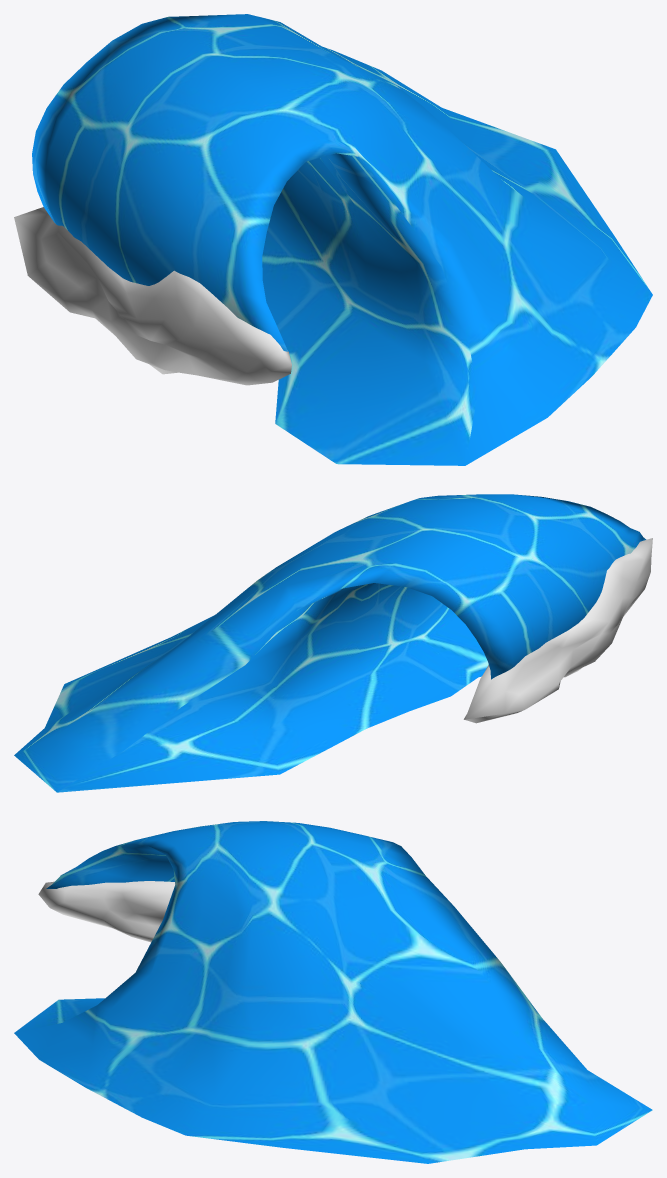
Rendered from onda.fbx.
3 views of the same model, one above another, from view 1: azimuth 30°, elevation 25°; view 2: azimuth 150°, elevation 25°; view 3: azimuth 270°, elevation 25° (orthographic). The views are drawn at different scales.
Visible parts, largest first — view 1: Cylinder.001; view 2: Cylinder.001; view 3: Cylinder.001.
Part boxes in pixels (x1=…): Cylinder.001: x1=14, y1=14, x2=652, y2=465; Cylinder.001: x1=14, y1=494, x2=652, y2=792; Cylinder.001: x1=14, y1=821, x2=652, y2=1163.
Bounding box in the file's own units: 1193 × 507 × 1607.
Materials: 2 (1 with a texture image).
